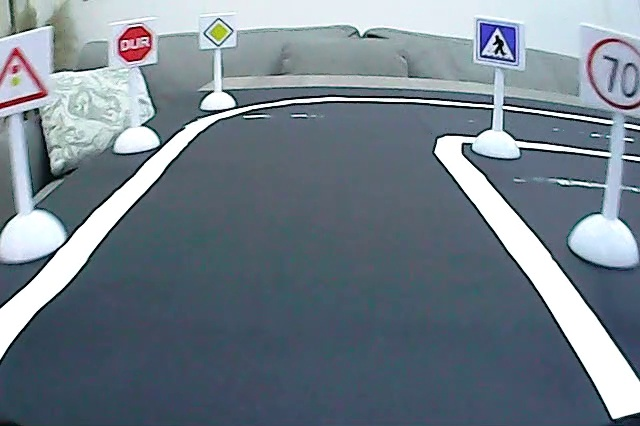pedestrian crossing: (475, 17, 520, 67)
red light: (1, 44, 51, 112)
speed limit 70: (583, 33, 640, 111)
stop sign: (114, 20, 156, 64)
